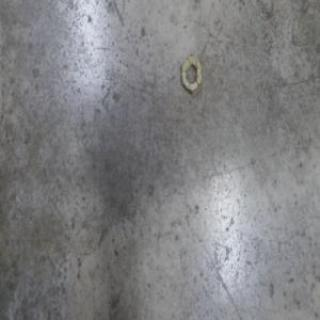Nuttrack_idkeyframe: (180, 52, 202, 94)
